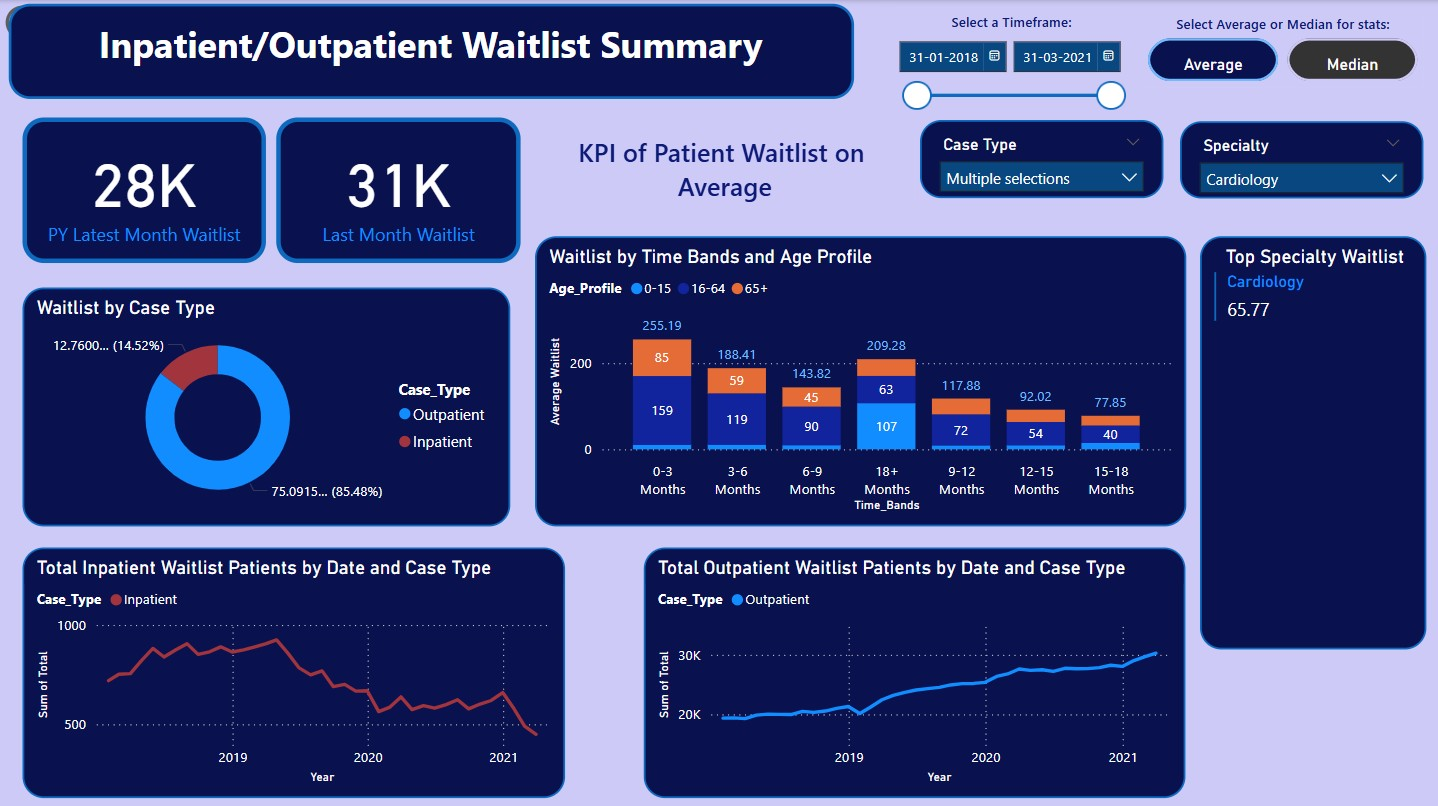

What the dashboard file says about the page in this screenshot:
{"tool":"powerbi","page":{"name":"Inpatient/Outpatient Waitlist Summary","canvas":[1280,720],"ordinal":0},"visuals":[{"type":"actionButton","box":[0,0,100,40],"z":0},{"type":"columnChart","title":"Waitlist by Time Bands and Age Profile","fields":{"Y":["All_Data.Average Waitlist"],"Category":["All_Data.Time_Bands"],"Series":["All_Data.Age_Profile"]},"box":[476.4,210.2,579.7,258.7],"z":1000},{"type":"card","fields":{"Values":["All_Data.Last Month Waitlist"]},"box":[246.3,104.5,217.7,129.4],"z":2000},{"type":"card","fields":{"Values":["All_Data.PY Latest Month Waitlist"]},"box":[19.9,104.5,216.4,129.4],"z":3000},{"type":"donutChart","title":"Waitlist by Case Type","fields":{"Category":["All_Data.Case_Type"],"Y":["All_Data.Average Waitlist"]},"box":[19.9,256.3,434.1,212.7],"z":4000},{"type":"advancedSlicerVisual","title":"Select Average or Median for stats:","fields":{"Values":["Calculation Method.Type"]},"box":[1017.6,13.7,250,64.7],"z":5000},{"type":"lineChart","title":"Total Outpatient Waitlist Patients by Date and Case Type","fields":{"Y":["Sum(All_Data.Total)"],"Category":["All_Data.Archive_Date.Variation.Date Hierarchy.Year","All_Data.Archive_Date.Variation.Date Hierarchy.Quarter","All_Data.Archive_Date.Variation.Date Hierarchy.Month","All_Data.Archive_Date.Variation.Date Hierarchy.Day"],"Series":["All_Data.Case_Type"]},"box":[573.7,488,482.4,223.2],"z":6000},{"type":"lineChart","title":"Total Inpatient Waitlist Patients by Date and Case Type","fields":{"Y":["Sum(All_Data.Total)"],"Category":["All_Data.Archive_Date.Variation.Date Hierarchy.Year","All_Data.Archive_Date.Variation.Date Hierarchy.Quarter","All_Data.Archive_Date.Variation.Date Hierarchy.Month","All_Data.Archive_Date.Variation.Date Hierarchy.Day"],"Series":["All_Data.Case_Type"]},"box":[20.3,488,483.5,223.2],"z":7000},{"type":"multiRowCard","title":"Top  Specialty Waitlist","fields":{"Values":["All_Data.Specialty","All_Data.Avg/Med Waitlist"]},"box":[1066.4,197,201.5,368.5],"z":8000},{"type":"slicer","fields":{"Values":["All_Data.Case_Type"]},"box":[819.8,107,216.4,69.7],"z":9000},{"type":"slicer","fields":{"Values":["All_Data.Specialty"]},"box":[1051.1,108.2,216.4,68.4],"z":10000},{"type":"textbox","box":[7.8,3.3,752.5,84.6],"z":11000},{"type":"slicer","title":"Select a Timeframe:","fields":{"Values":["All_Data.Archive_Date"]},"box":[780,3.7,237.6,103.2],"z":12000},{"type":"card","fields":{"Values":["All_Data.Stats_Message"]},"box":[476.4,99.5,338.4,98.3],"z":13000}]}

Visuals, with their boxes in screenshot pixels (x1, y1, x2, y2), scaled from the page's 1280x720 canvas onto the 1438x806 screenshot:
actionButton: select_region(0, 0, 112, 45)
"Waitlist by Time Bands and Age Profile" columnChart: select_region(535, 235, 1186, 525)
card - All_Data.Last Month Waitlist: select_region(277, 117, 521, 262)
card - All_Data.PY Latest Month Waitlist: select_region(22, 117, 265, 262)
"Waitlist by Case Type" donutChart: select_region(22, 287, 510, 525)
"Select Average or Median for stats:" advancedSlicerVisual: select_region(1143, 15, 1424, 88)
"Total Outpatient Waitlist Patients by Date and Case Type" lineChart: select_region(645, 546, 1186, 796)
"Total Inpatient Waitlist Patients by Date and Case Type" lineChart: select_region(23, 546, 566, 796)
"Top  Specialty Waitlist" multiRowCard: select_region(1198, 221, 1424, 633)
slicer - All_Data.Case_Type: select_region(921, 120, 1164, 198)
slicer - All_Data.Specialty: select_region(1181, 121, 1424, 198)
textbox: select_region(9, 4, 854, 98)
"Select a Timeframe:" slicer: select_region(876, 4, 1143, 120)
card - All_Data.Stats_Message: select_region(535, 111, 915, 221)
